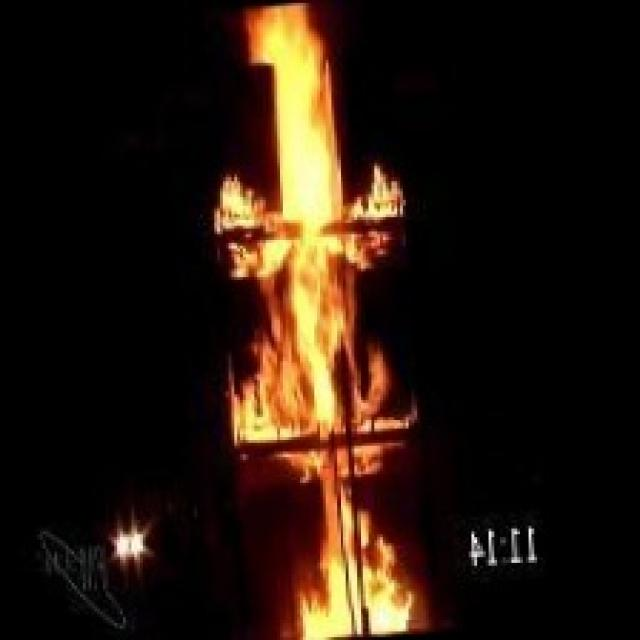fire: (158, 0, 473, 640)
